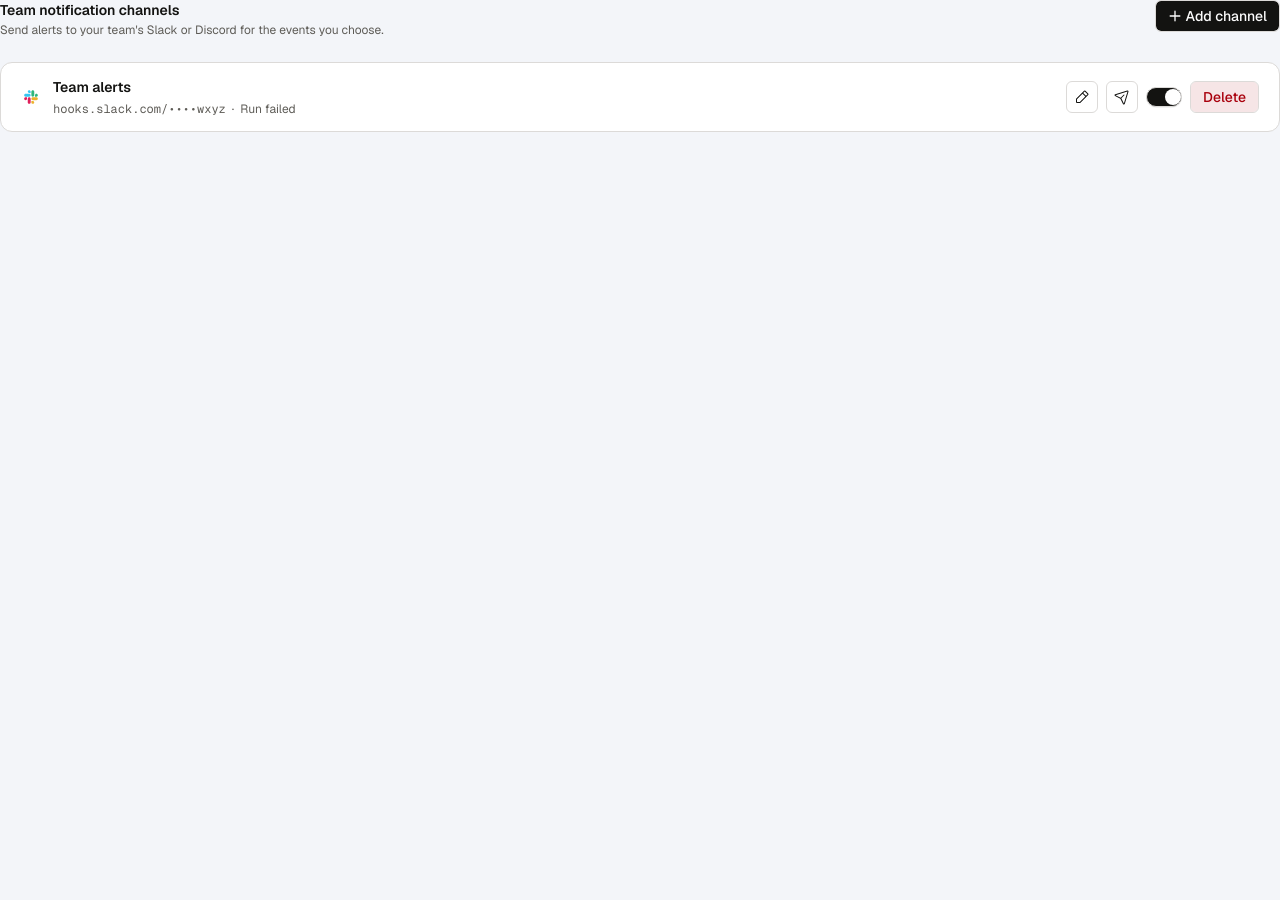
Test: NotificationWebhooksPanel › editing a channel › keeps save disabled until something changes
This screenshot has width=1280, height=900.
Click the button named "Edit Team alerts" at (1082, 97), box [1066,81,1098,113]
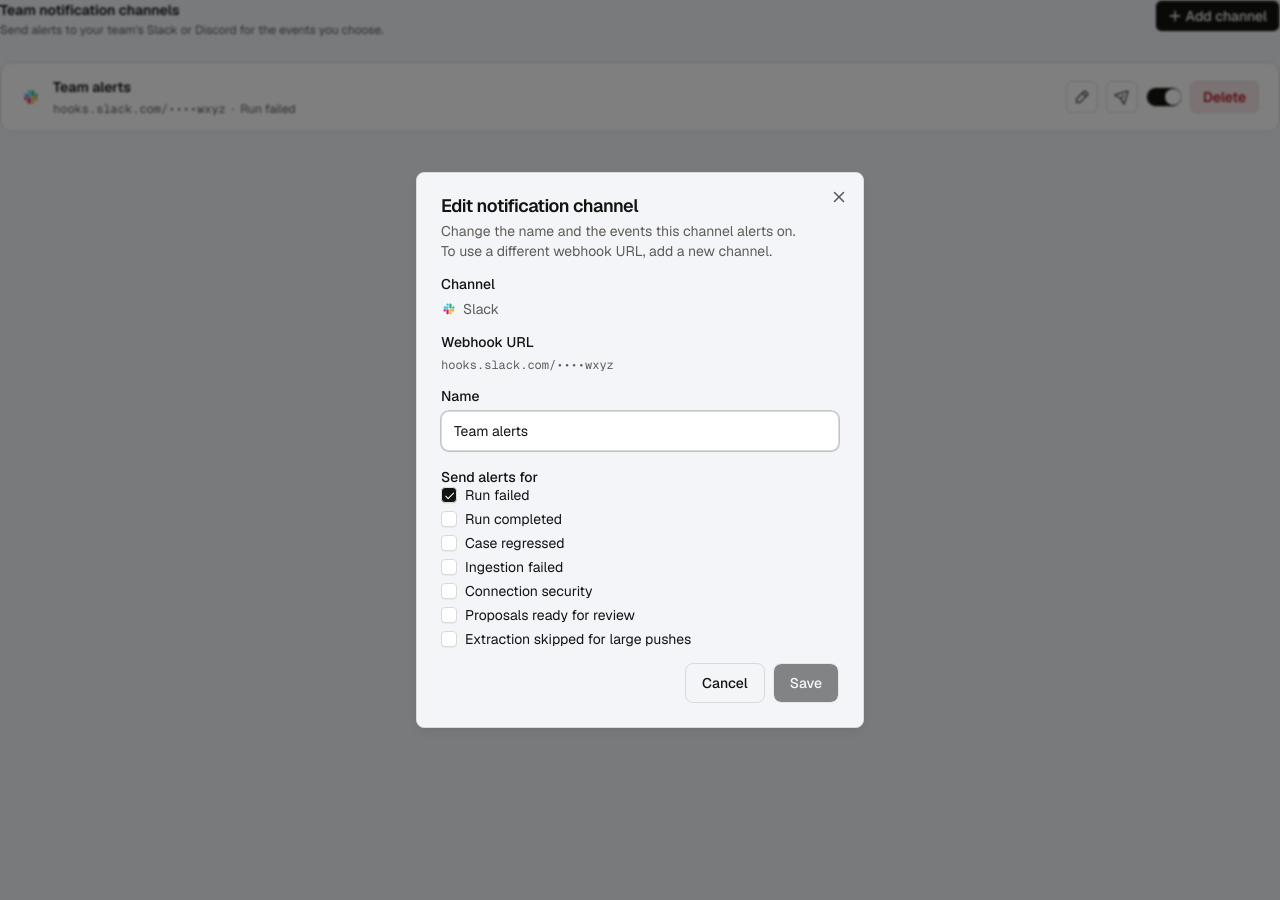
Now the button "Save" is disabled, box [773,663,839,703]
Type " 2" into the field labelled "Name" at (640, 431), box [441,411,839,451]
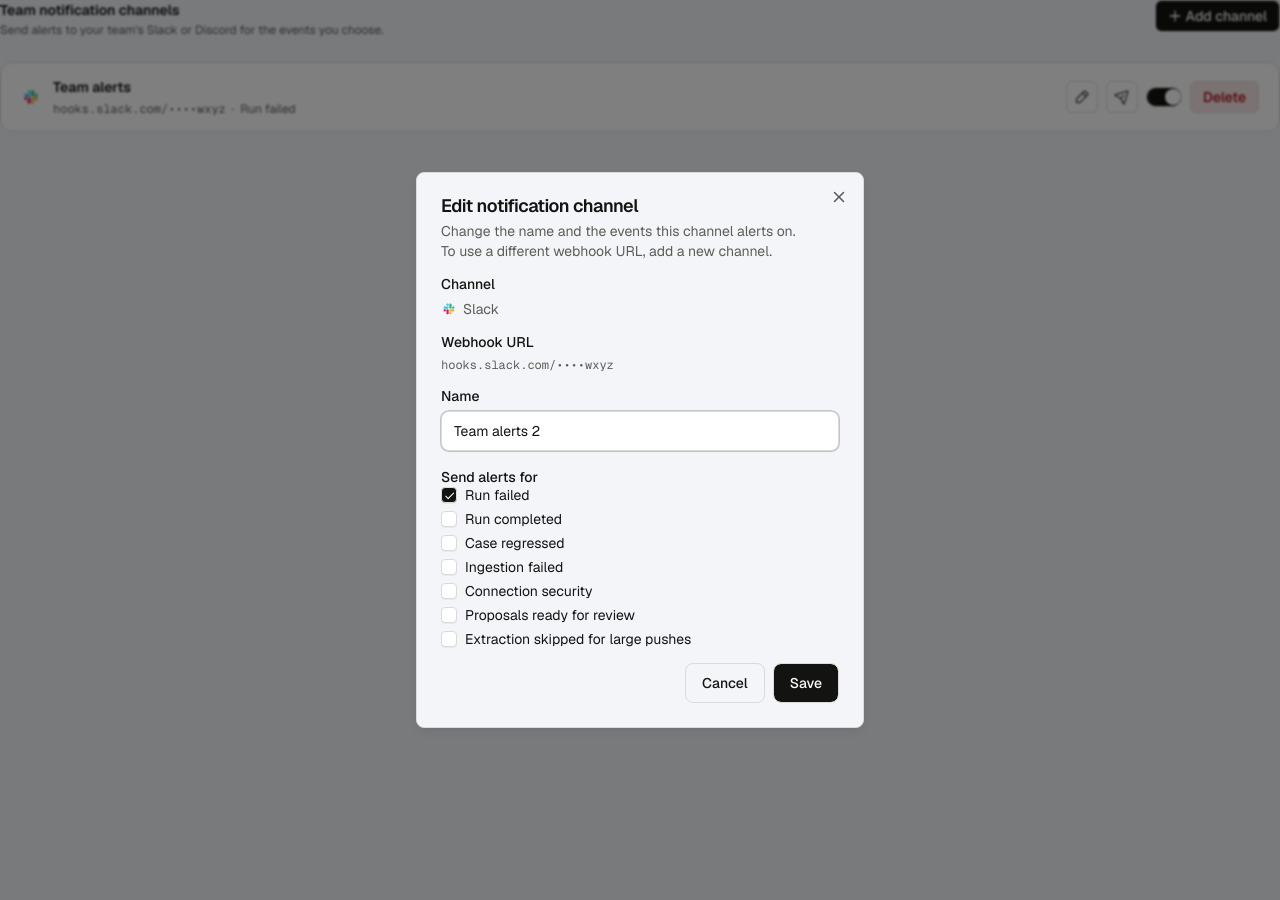
Now the button "Save" is enabled, box [773,663,839,703]
